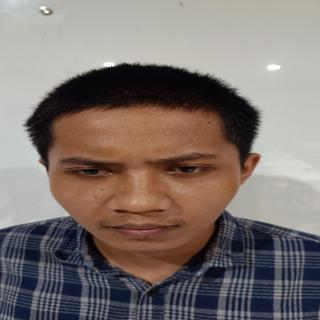Marah: (44, 100, 249, 253)
